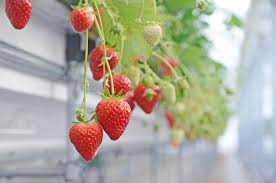ripe: (94, 97, 132, 141), (68, 120, 105, 164), (88, 43, 121, 80), (133, 79, 162, 115), (67, 5, 99, 37), (3, 1, 35, 33), (106, 72, 133, 100), (158, 54, 177, 75)
unripe: (158, 80, 181, 106), (141, 23, 163, 47), (168, 124, 182, 147)
